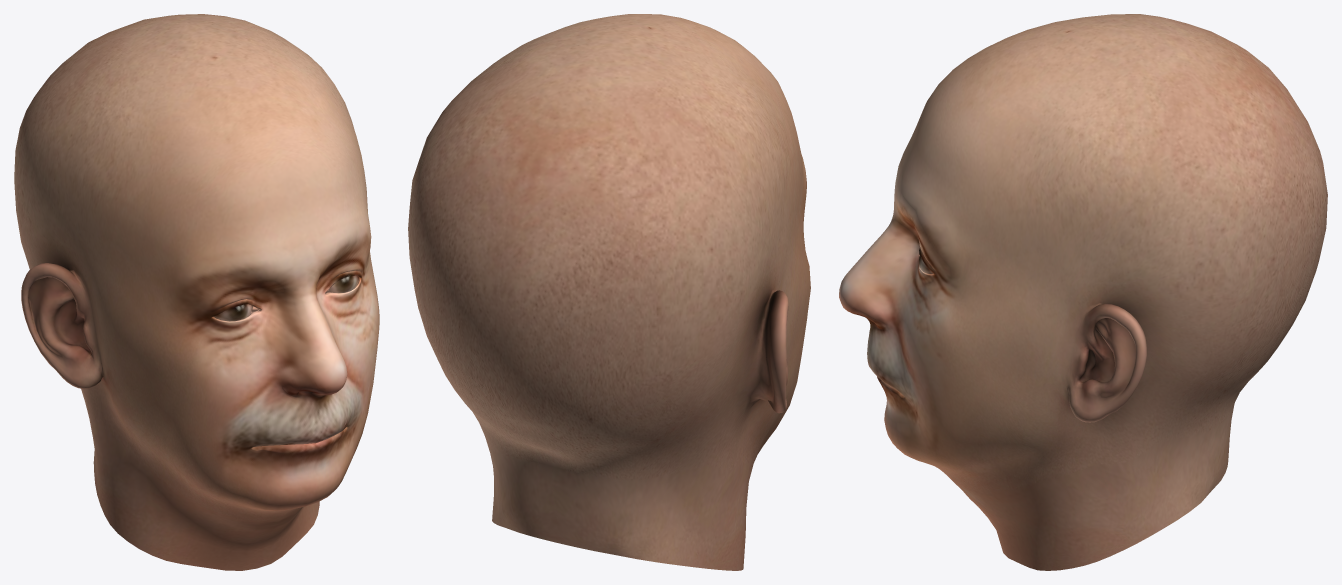
Rendered from Albert 2 model.fbx.
3 views of the same model, side by side, from view 1: azimuth 30°, elevation 25°; view 2: azimuth 150°, elevation 25°; view 3: azimuth 270°, elevation 25° (orthographic). The views are drawn at different scales.
Parts seen in each view (by area): view 1: Head; view 2: Head; view 3: Head.
Part boxes in pixels (x1,y1,x2,y2): Head: (14,14,379,570); Head: (408,14,810,570); Head: (839,14,1327,570).
Bounding box in the file's own units: 0.1912 × 0.2715 × 0.2339.
